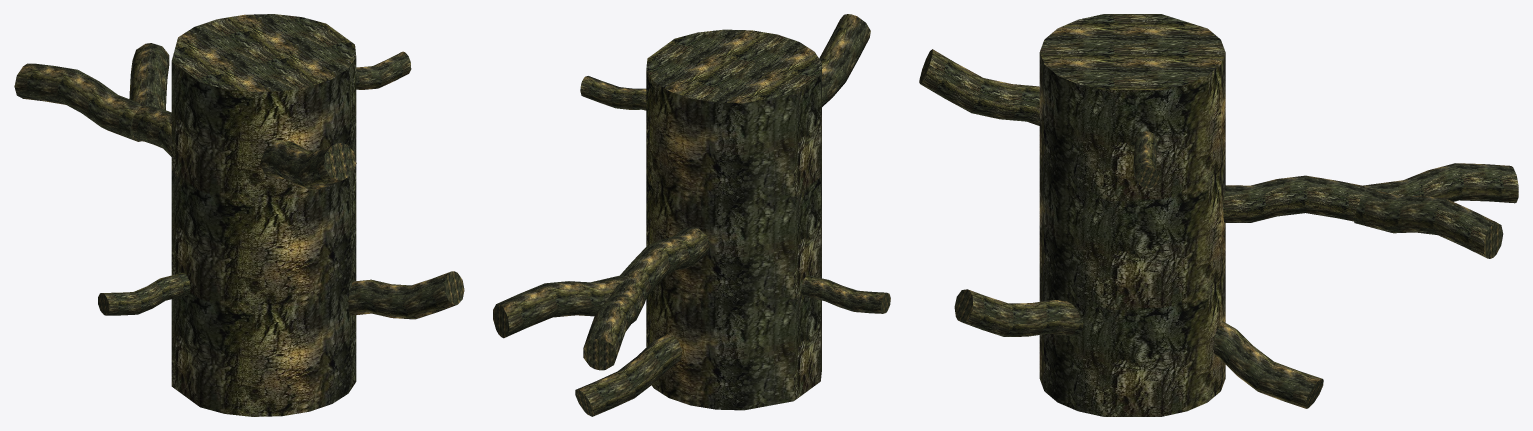
The model's file is PlaceHolder Tree.fbx.
3 renders of one model, left to right at view 1: azimuth 30°, elevation 25°; view 2: azimuth 150°, elevation 25°; view 3: azimuth 270°, elevation 25°, orthographic. The views are drawn at different scales.
Parts seen in each view (by area): view 1: pCylinder1, pCylinder5, pCylinder8, pCylinder2, pCylinder4, pCylinder7, pCylinder3, pCylinder6; view 2: pCylinder1, pCylinder4, pCylinder9, pCylinder5, pCylinder3, pCylinder2, pCylinder7, pCylinder6; view 3: pCylinder1, pCylinder4, pCylinder3, pCylinder2, pCylinder8, pCylinder5, pCylinder9, pCylinder6.
Part boxes in pixels (<box>): pCylinder1: <box>171,14,356,416</box>; pCylinder5: <box>14,63,141,141</box>; pCylinder8: <box>348,271,464,319</box>; pCylinder2: <box>260,141,356,190</box>; pCylinder4: <box>129,43,169,141</box>; pCylinder7: <box>98,273,190,315</box>; pCylinder3: <box>131,105,171,156</box>; pCylinder6: <box>356,51,411,89</box>; pCylinder1: <box>646,29,821,410</box>; pCylinder4: <box>493,275,628,338</box>; pCylinder9: <box>575,334,682,416</box>; pCylinder5: <box>583,277,647,370</box>; pCylinder3: <box>619,227,710,295</box>; pCylinder2: <box>819,14,870,106</box>; pCylinder7: <box>801,275,890,313</box>; pCylinder6: <box>580,76,646,110</box>; pCylinder1: <box>1039,14,1225,416</box>; pCylinder4: <box>1352,188,1503,258</box>; pCylinder3: <box>1223,175,1364,222</box>; pCylinder2: <box>919,49,1039,125</box>; pCylinder8: <box>954,289,1083,336</box>; pCylinder5: <box>1363,163,1518,203</box>; pCylinder9: <box>1213,321,1323,408</box>; pCylinder6: <box>1133,131,1159,187</box>.
Size of the model in its own units: 27.31 by 27.34 by 45.44.
Materials: 2 (2 with a texture image).
